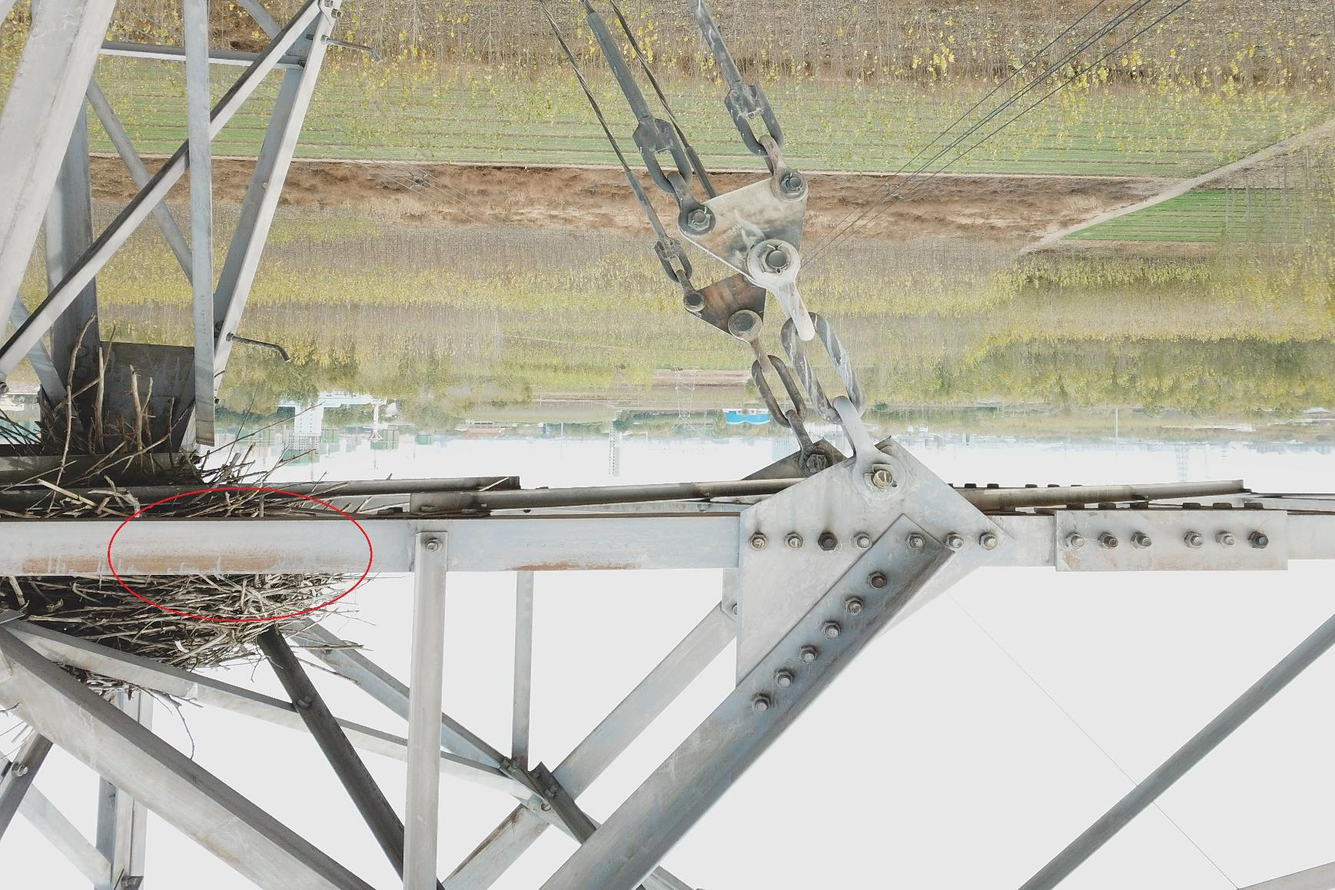nest: (1, 346, 357, 677)
